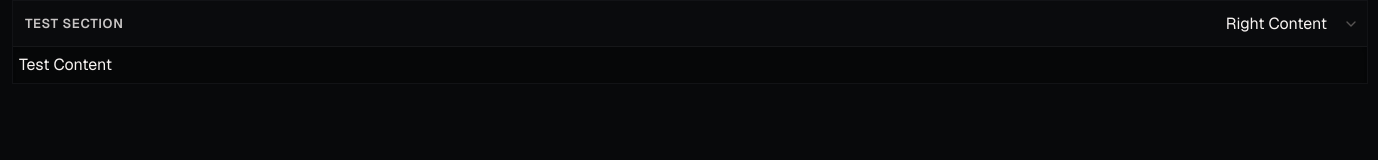
Test case: CollapsibleSection › shows collapsedContent when collapsed and rightContent when expanded
The width and height of the screenshot is (1378, 160).
Check: the text "Right Content" is shown, box top-left (1226, 16), bottom-right (1327, 32)
// Click to collapse
Click the button with test id "test-section-trigger".
click(74, 23)  # box top-left (13, 6), bottom-right (1222, 41)
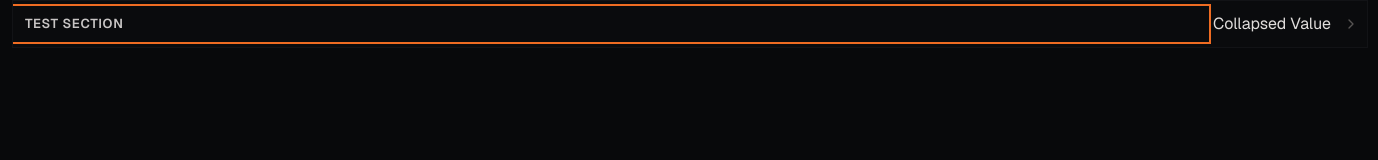
Check: the text "Collapsed Value" is shown, box top-left (1213, 16), bottom-right (1331, 32)
Check: the text with test id "right-content" is gone
